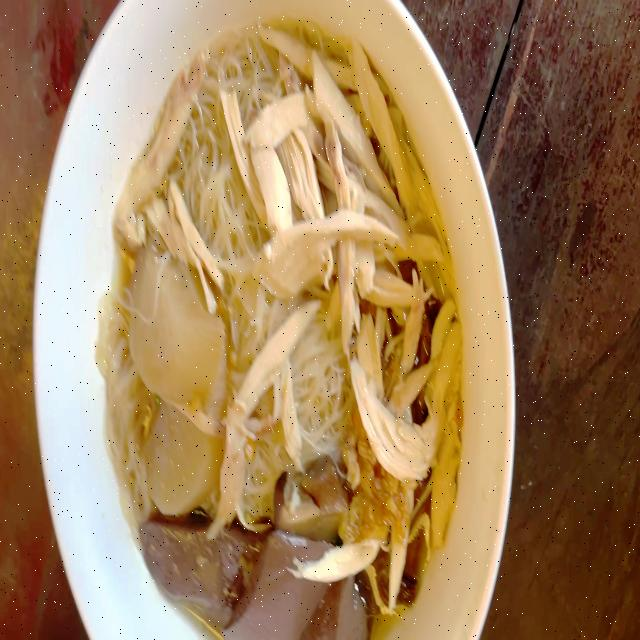boiled_chicken_blood_jelly: (141, 502, 363, 640)
chicken_shredded: (280, 37, 450, 525), (113, 68, 200, 240)
daikon_radish: (128, 249, 225, 506)
noodle: (98, 29, 477, 640)
